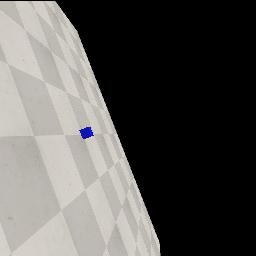box: (79, 127, 94, 139)
